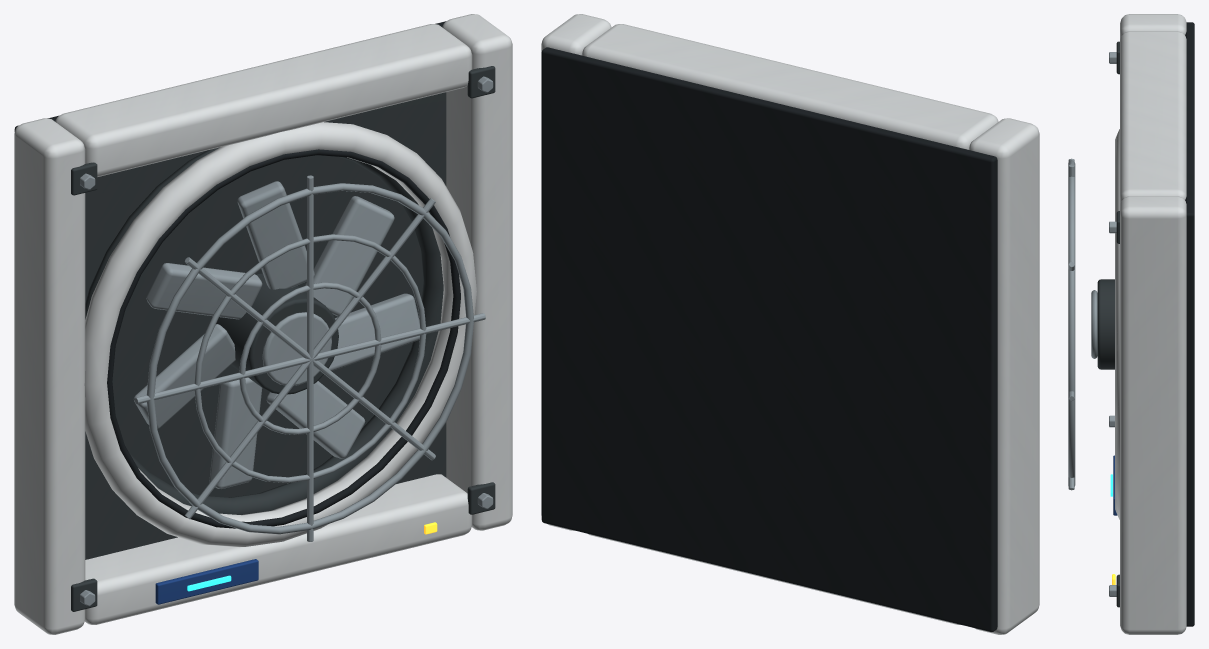
Rendered from 12_vent_fan_unit.gltf.
3 renders of one model, left to right at view 1: azimuth 30°, elevation 25°; view 2: azimuth 150°, elevation 25°; view 3: azimuth 270°, elevation 25°, orthographic. The views are drawn at different scales.
Visible parts, largest first — view 1: 12_Cryo_Ceramic_Enamel, 12_Cryo_Anodized_Frame, 12_Cryo_Brushed_Steel, 12_Cryo_EPDM_Gasket, 12_Cryo_Cobalt_Enamel; view 2: 12_Cryo_EPDM_Gasket, 12_Cryo_Ceramic_Enamel; view 3: 12_Cryo_Ceramic_Enamel, 12_Cryo_EPDM_Gasket, 12_Cryo_Brushed_Steel, 12_Cryo_Anodized_Frame.
Boxes of the visible parts, bbox=[...] form: 12_Cryo_Ceramic_Enamel: bbox=[14, 14, 512, 634]; 12_Cryo_Anodized_Frame: bbox=[71, 66, 495, 611]; 12_Cryo_Brushed_Steel: bbox=[80, 76, 493, 605]; 12_Cryo_EPDM_Gasket: bbox=[14, 21, 460, 528]; 12_Cryo_Cobalt_Enamel: bbox=[155, 559, 258, 604]; 12_Cryo_EPDM_Gasket: bbox=[541, 47, 997, 631]; 12_Cryo_Ceramic_Enamel: bbox=[541, 14, 1039, 634]; 12_Cryo_Ceramic_Enamel: bbox=[1115, 14, 1186, 634]; 12_Cryo_EPDM_Gasket: bbox=[1185, 22, 1194, 626]; 12_Cryo_Brushed_Steel: bbox=[1068, 52, 1116, 596]; 12_Cryo_Anodized_Frame: bbox=[1097, 41, 1119, 607].
Bounding box in the file's own units: 1.2 × 1.2 × 0.322.
Materials: 7 (5 with a texture image).
